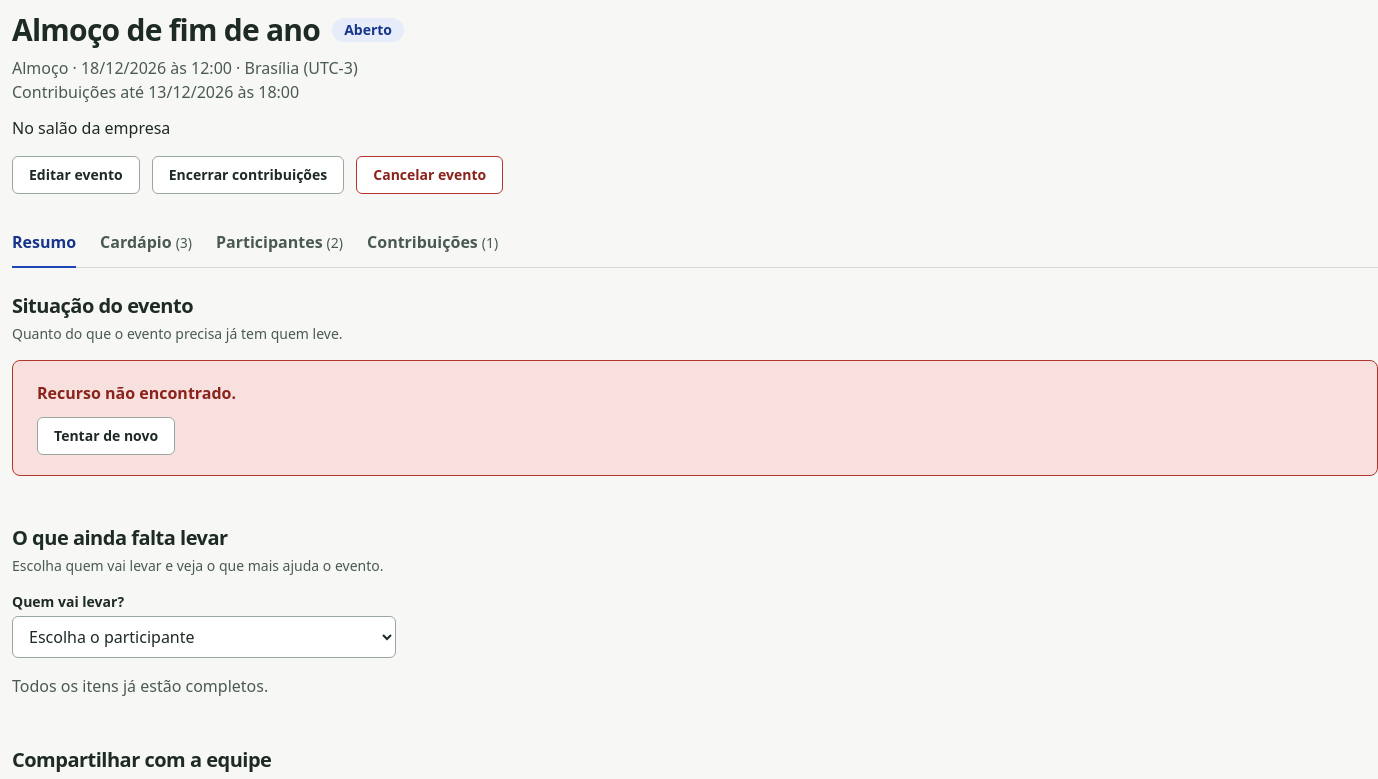
it: EventPage: status actions › shows the reason in a notice when a change without a question fails
Click the button "Encerrar contribuições" at (248, 175), box [152,156,344,194]
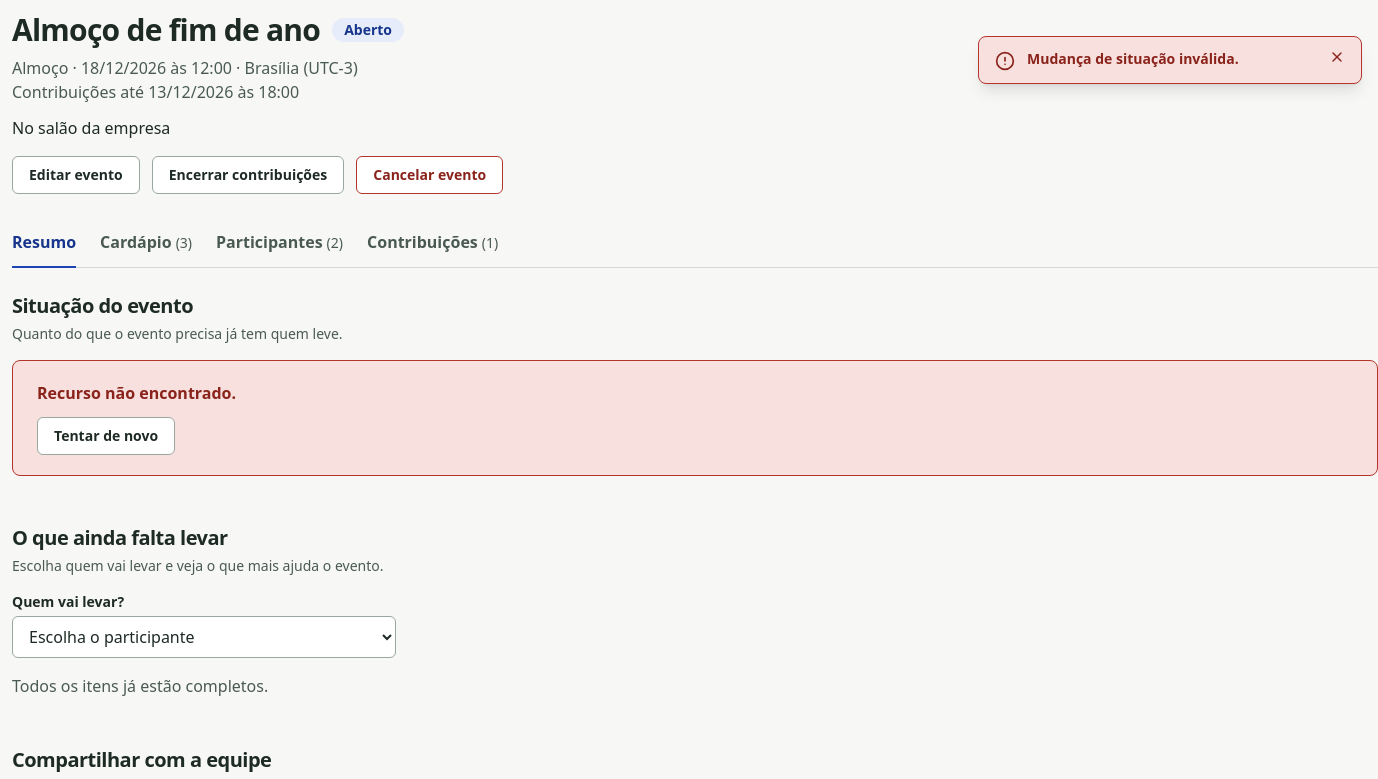
Now the text "Mudança de situação inválida." is shown, box [1027,49,1239,68]
